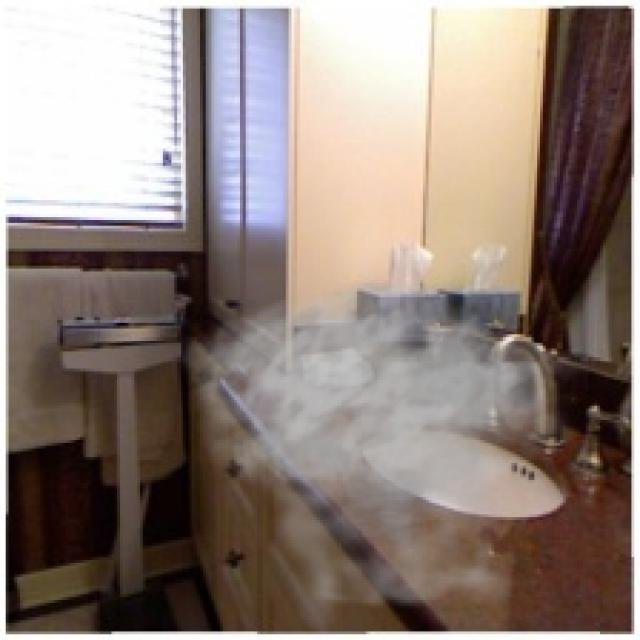smoke: (177, 280, 592, 637)
